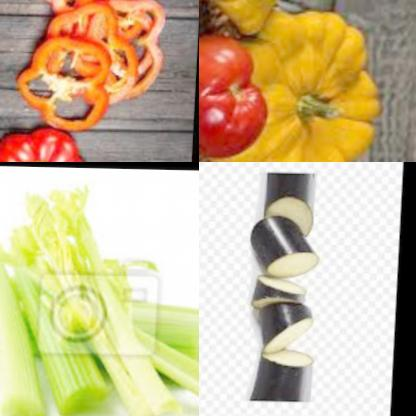bell pepper: (0, 0, 174, 128), (0, 125, 104, 162)
celery: (0, 180, 194, 416), (0, 294, 199, 367), (0, 236, 63, 416), (105, 306, 199, 412)
eggplant: (246, 212, 326, 280), (250, 346, 327, 405), (260, 167, 322, 238), (258, 298, 319, 353), (250, 274, 312, 311)
squash-patisson: (219, 0, 401, 162)
tomato: (199, 26, 280, 162)
